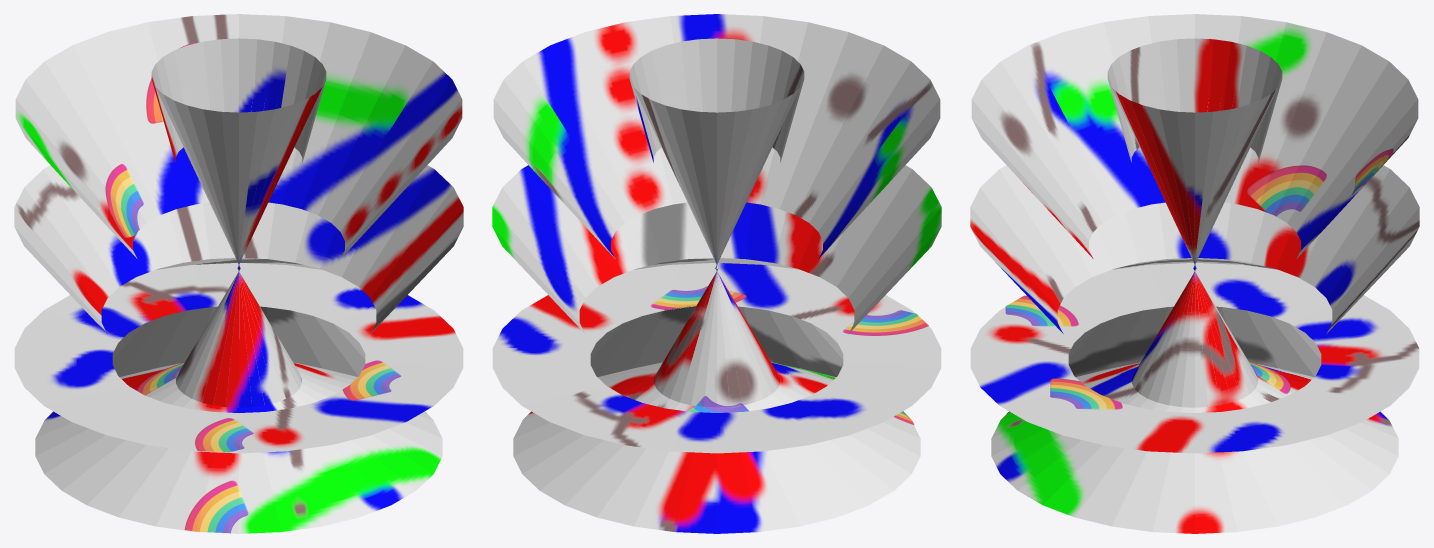
The picture shows the model from 3 angles, left to right: view 1: azimuth 30°, elevation 25°; view 2: azimuth 150°, elevation 25°; view 3: azimuth 270°, elevation 25°; orthographic projection.
Parts seen in each view (by area): view 1: algeomath, 스티커 (×5); view 2: algeomath, 스티커 (×3); view 3: algeomath, 스티커 (×5).
Part boxes in pixels (box(x1,y1,x2,y2)): algeomath: box(14, 14, 463, 533); 스티커 (×5): box(105, 164, 400, 533); algeomath: box(492, 14, 941, 533); 스티커 (×3): box(651, 286, 928, 412); algeomath: box(970, 14, 1419, 533); 스티커 (×5): box(1005, 148, 1393, 409).
Bounding box in the file's own units: 11.34 × 10.3 × 11.27.
Materials: 7 (7 with a texture image).
